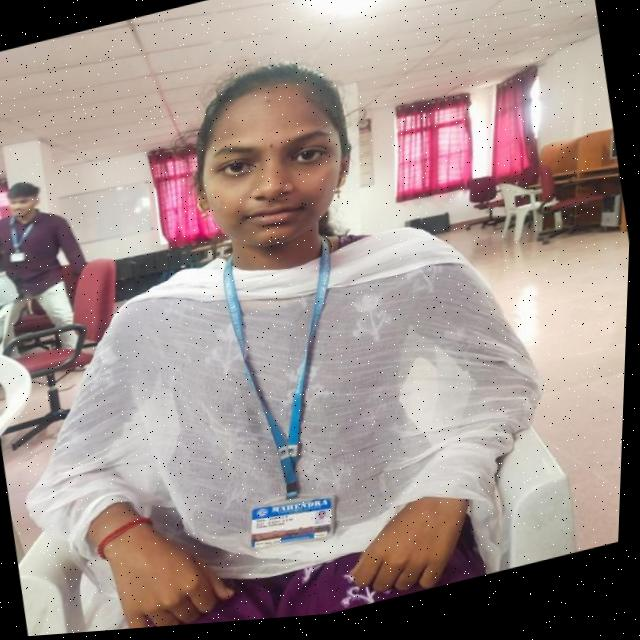id_card: (198, 231, 390, 572)
